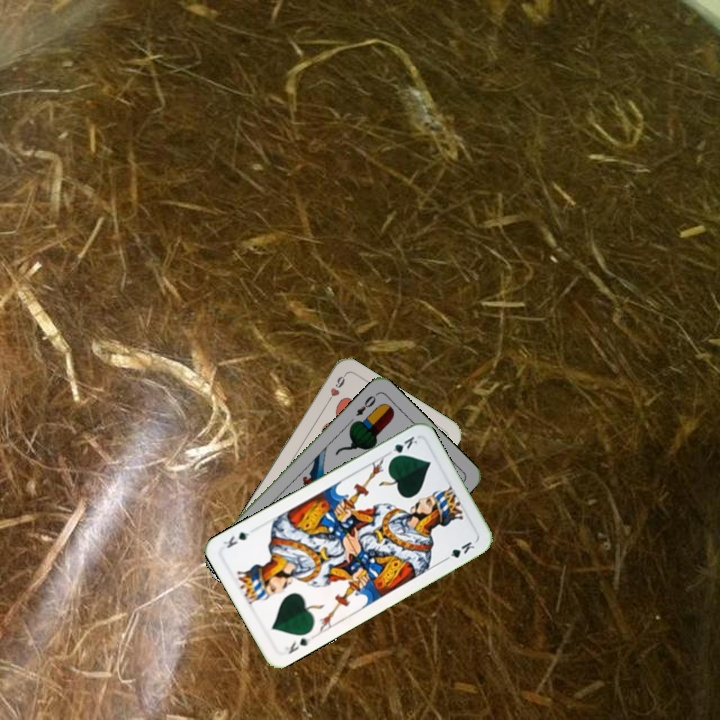EO: (352, 389, 380, 419)
GK: (382, 432, 420, 462), (281, 632, 316, 656)
H9: (322, 371, 348, 407)
